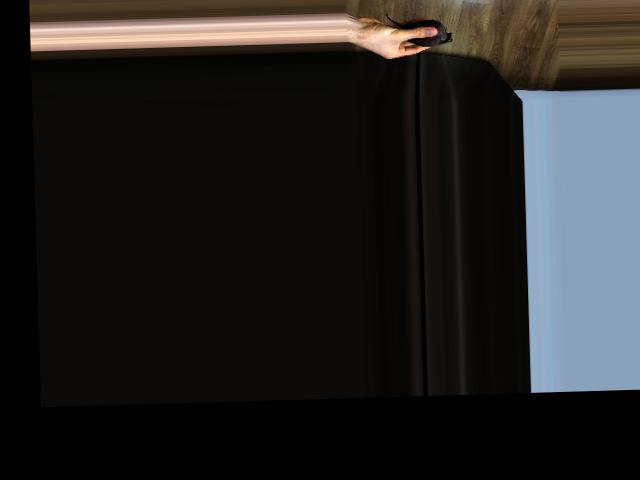beet: (387, 10, 453, 47)
